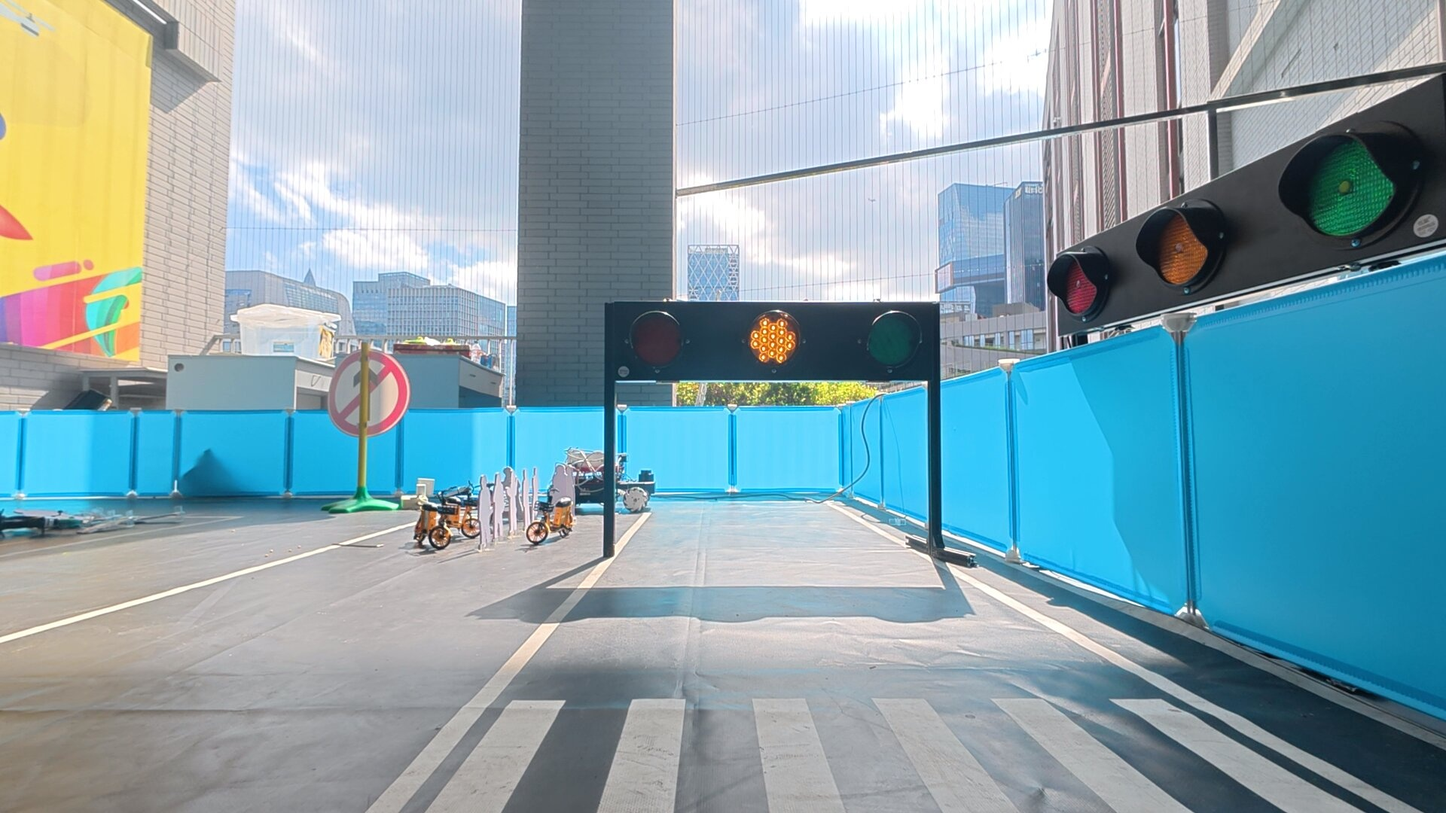stop: (747, 311, 798, 369)
